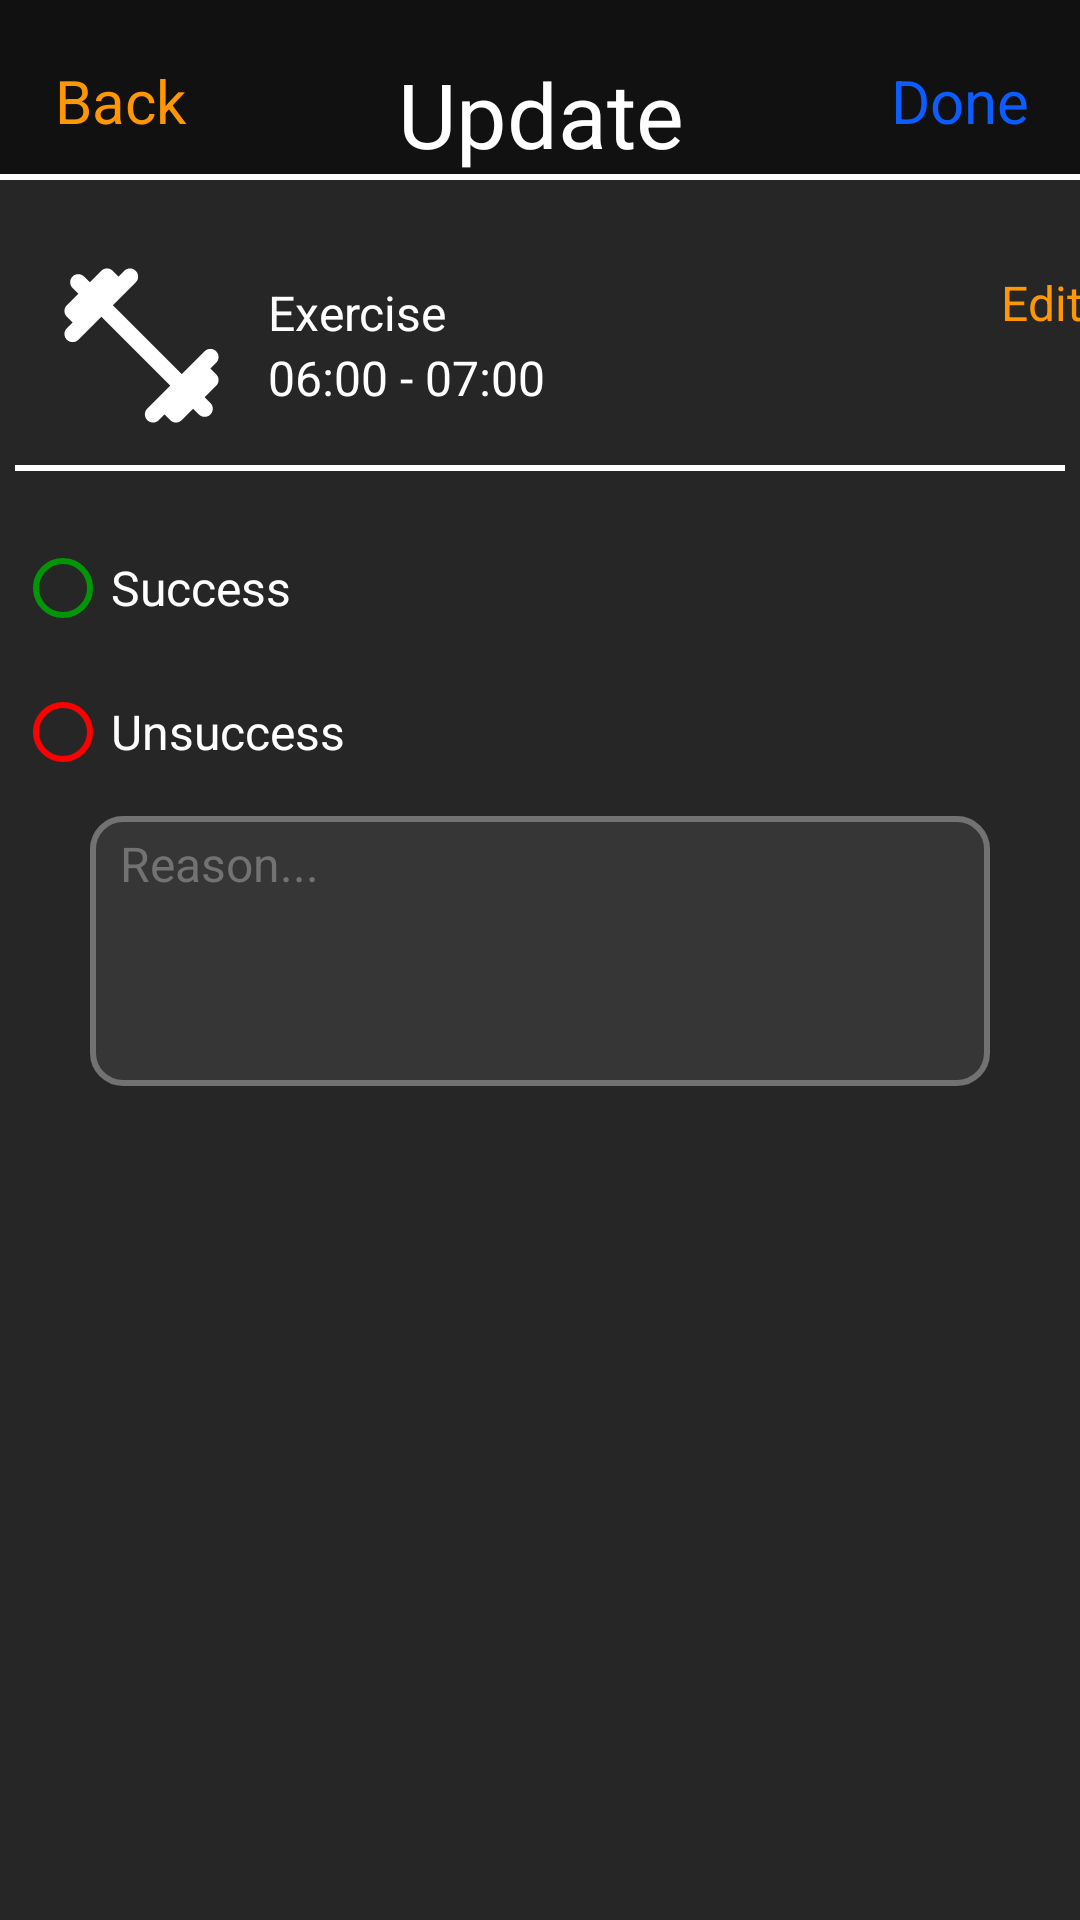

Point at icon controls on the screen. Image size 1080x1920, points as (x,y).
fitness: (141,345)
